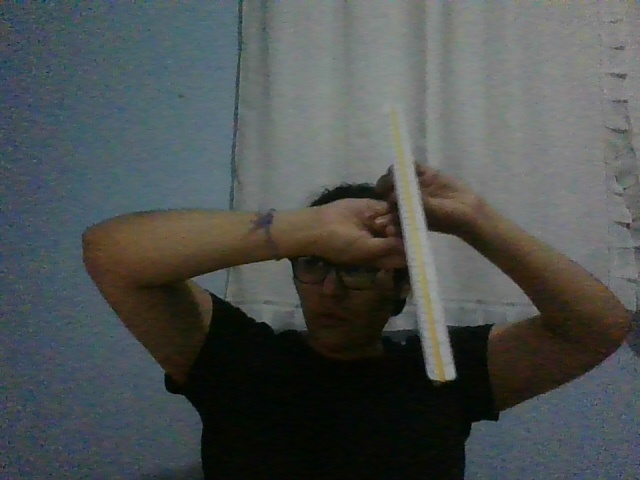regla: (388, 104, 458, 388)
